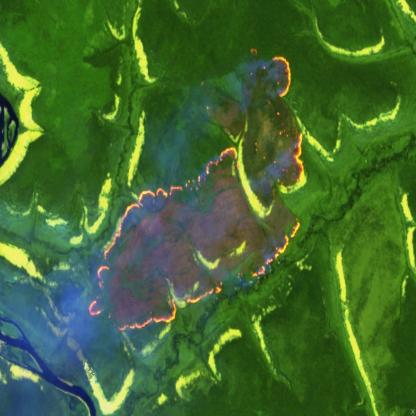fire: (86, 46, 310, 336)
